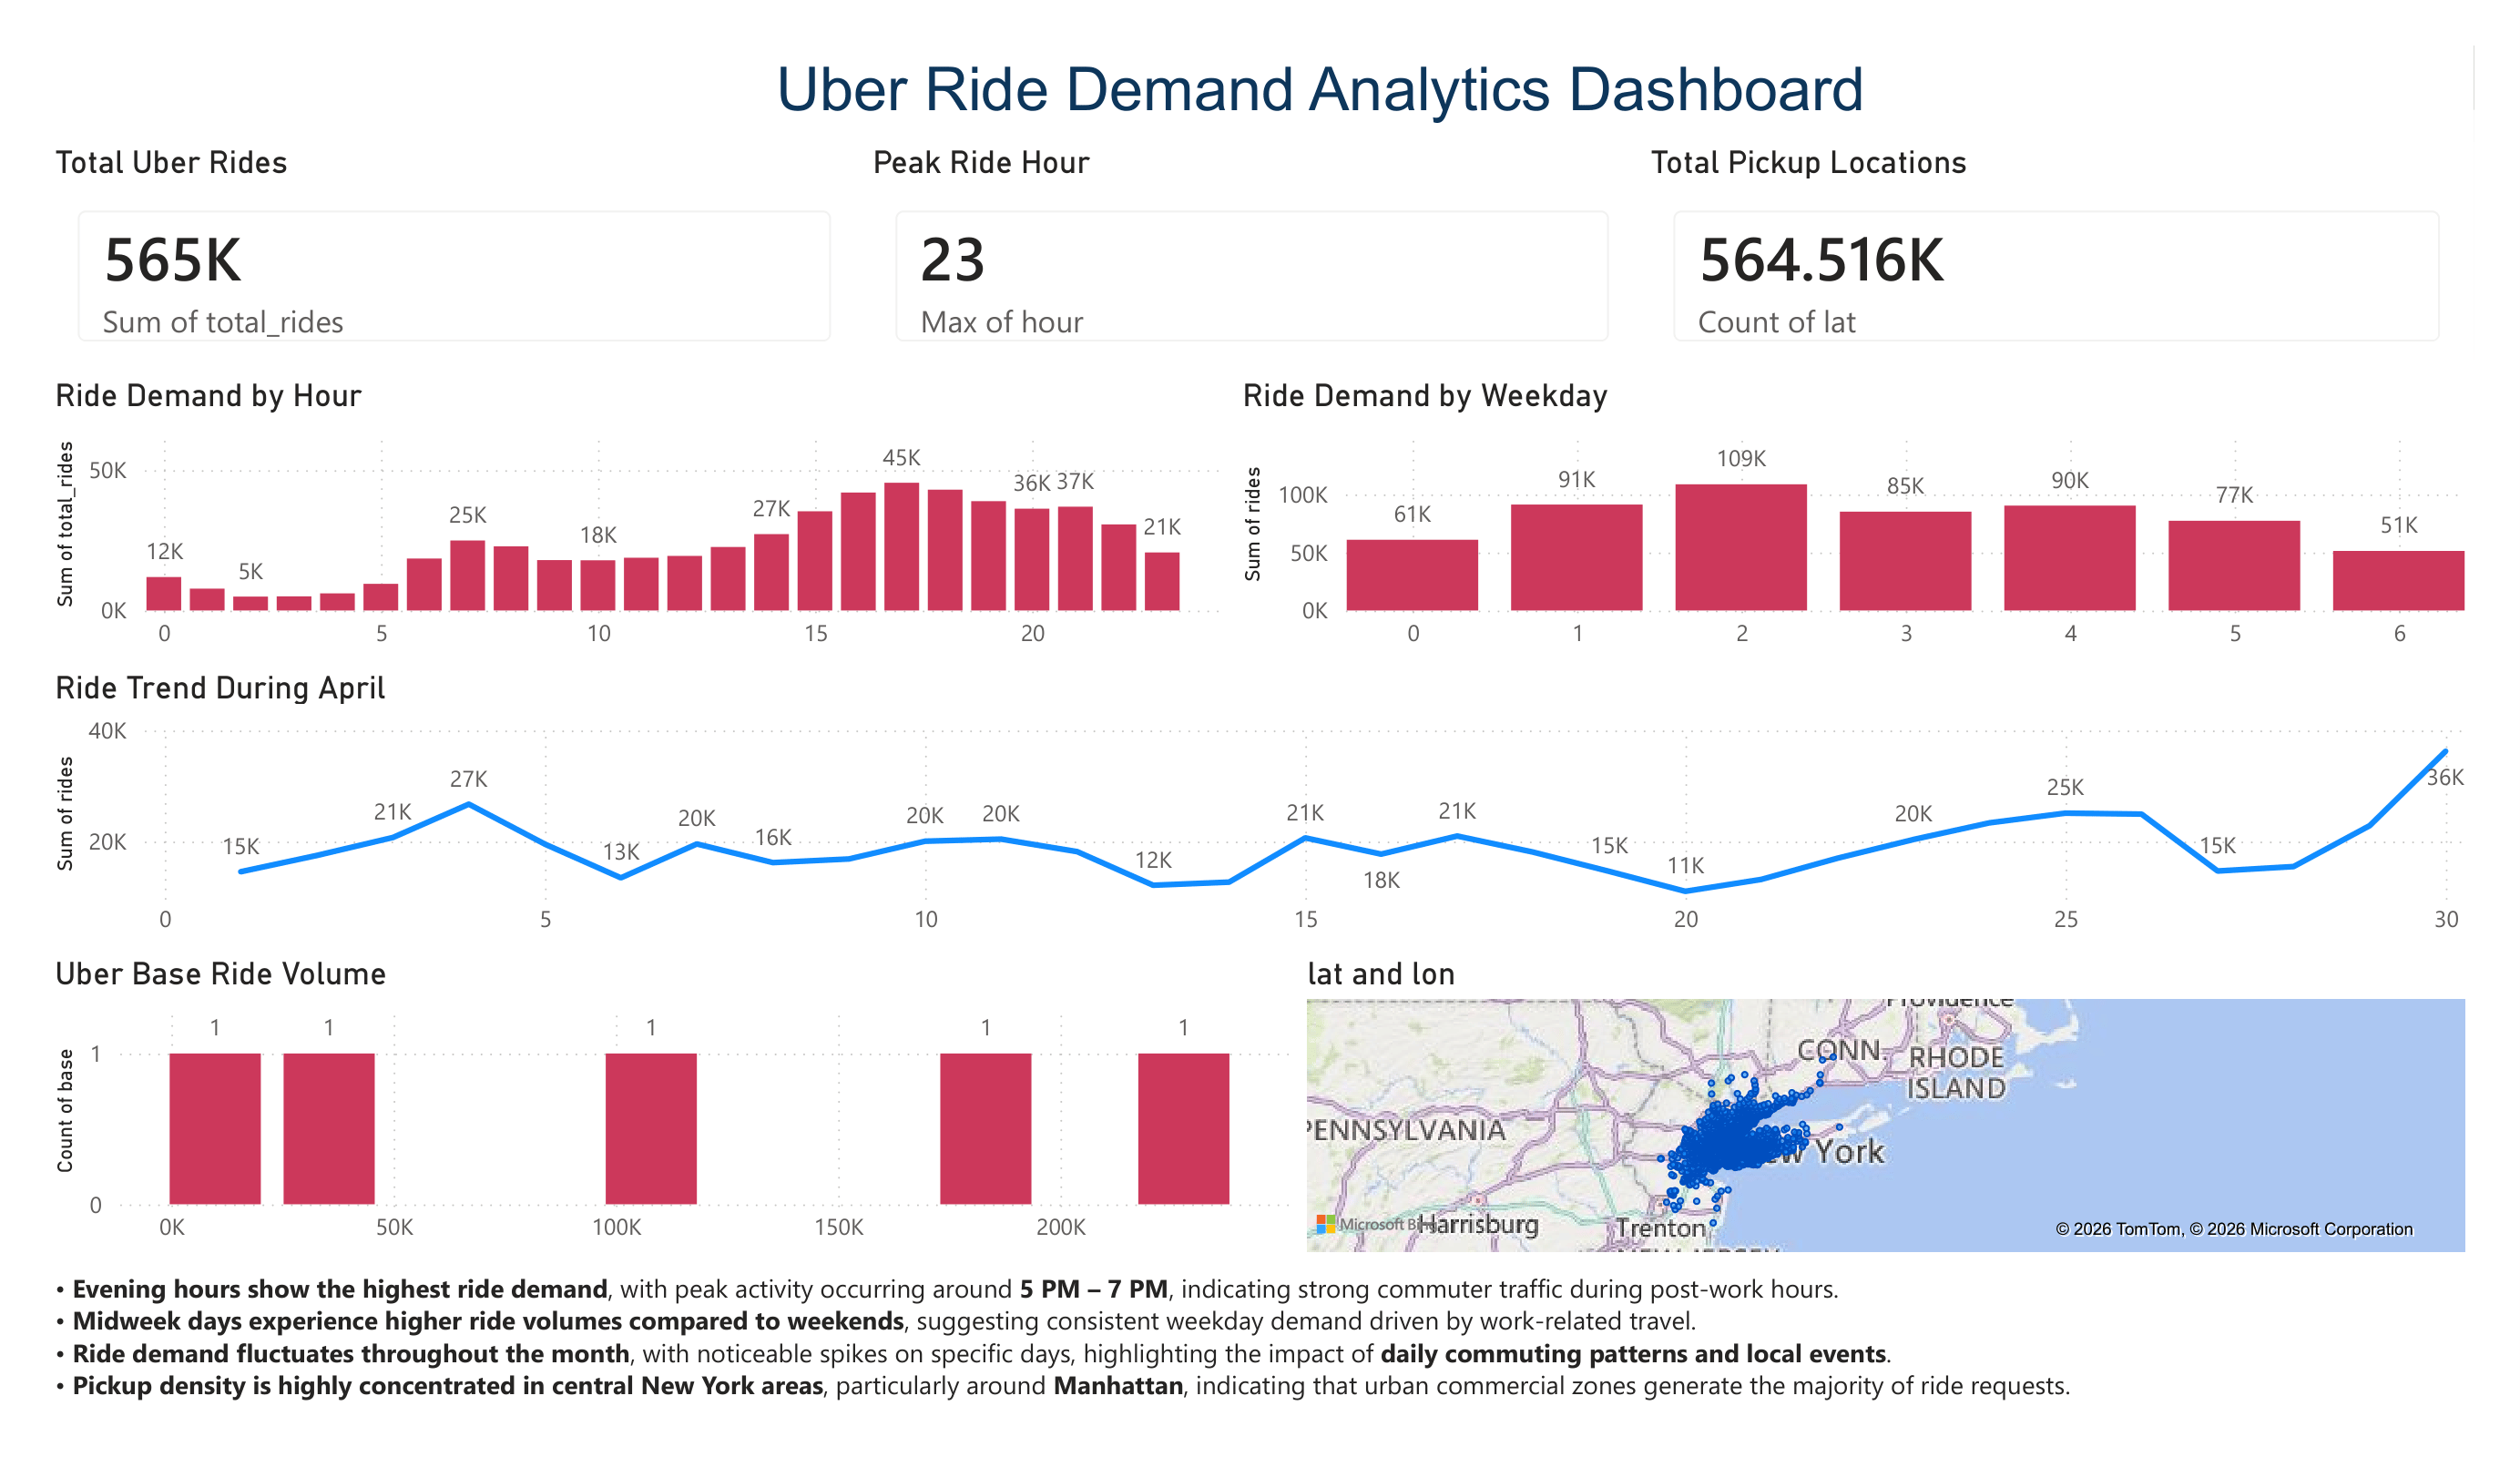

Layout of this report page (visuals, bound fields, positions):
{"tool":"powerbi","page":{"name":"Page 1Uber Ride Demand Analytics Dashboard","canvas":[1280,720],"ordinal":0},"visuals":[{"type":"clusteredColumnChart","title":"Ride Demand by Hour","fields":{"Category":["rides_by_hour.hour"],"Y":["Sum(rides_by_hour.total_rides)"]},"box":[0,173.8,626.2,153.8],"z":0},{"type":"clusteredColumnChart","title":"Ride Demand by Weekday","fields":{"Category":["rides_by_weekday.weekday"],"Y":["Sum(rides_by_weekday.rides)"]},"box":[626.2,173.8,653.8,153.8],"z":1000},{"type":"lineChart","title":"Ride Trend During April","fields":{"Category":["rides_by_day.day"],"Y":["Sum(rides_by_day.rides)"]},"box":[0,327.5,1280,151.2],"z":2000},{"type":"clusteredColumnChart","title":"Uber Base Ride Volume","fields":{"Category":["rides_by_base.rides"],"Y":["CountNonNull(rides_by_base.base)"]},"box":[0,478.8,660,162.5],"z":3000},{"type":"map","fields":{"Y":["pickup_locations.lat"],"X":["pickup_locations.lon"]},"box":[660,478.8,620,162.5],"z":4000},{"type":"cardVisual","title":"Total Uber Rides","fields":{"Data":["Sum(rides_by_hour.total_rides)"]},"box":[0,51.2,431.2,122.5],"z":5000},{"type":"cardVisual","title":"Peak Ride Hour","fields":{"Data":["Max(rides_by_hour.hour)"]},"box":[431.2,51.2,410,122.5],"z":6000},{"type":"cardVisual","title":"Total Pickup Locations","fields":{"Data":["CountNonNull(pickup_locations.lat)"]},"box":[841.2,51.2,438.8,122.5],"z":7000},{"type":"textbox","box":[282.9,0,778.6,51.4],"z":8000},{"type":"textbox","box":[0,641.2,1280,78.8],"z":8001}]}

Visuals, with their boxes on the page's 1280x720 design canvas (x1, y1, x2, y2). These are canvas units, not pixel positions in the 2520x1457 screenshot, which may show the page scaled, cropped or inside an application window:
"Ride Demand by Hour" clusteredColumnChart: x1=0 y1=174 x2=626 y2=328
"Ride Demand by Weekday" clusteredColumnChart: x1=626 y1=174 x2=1280 y2=328
"Ride Trend During April" lineChart: x1=0 y1=328 x2=1280 y2=479
"Uber Base Ride Volume" clusteredColumnChart: x1=0 y1=479 x2=660 y2=641
map - pickup_locations.lat x pickup_locations.lon: x1=660 y1=479 x2=1280 y2=641
"Total Uber Rides" cardVisual: x1=0 y1=51 x2=431 y2=174
"Peak Ride Hour" cardVisual: x1=431 y1=51 x2=841 y2=174
"Total Pickup Locations" cardVisual: x1=841 y1=51 x2=1280 y2=174
textbox: x1=283 y1=0 x2=1062 y2=51
textbox: x1=0 y1=641 x2=1280 y2=720
